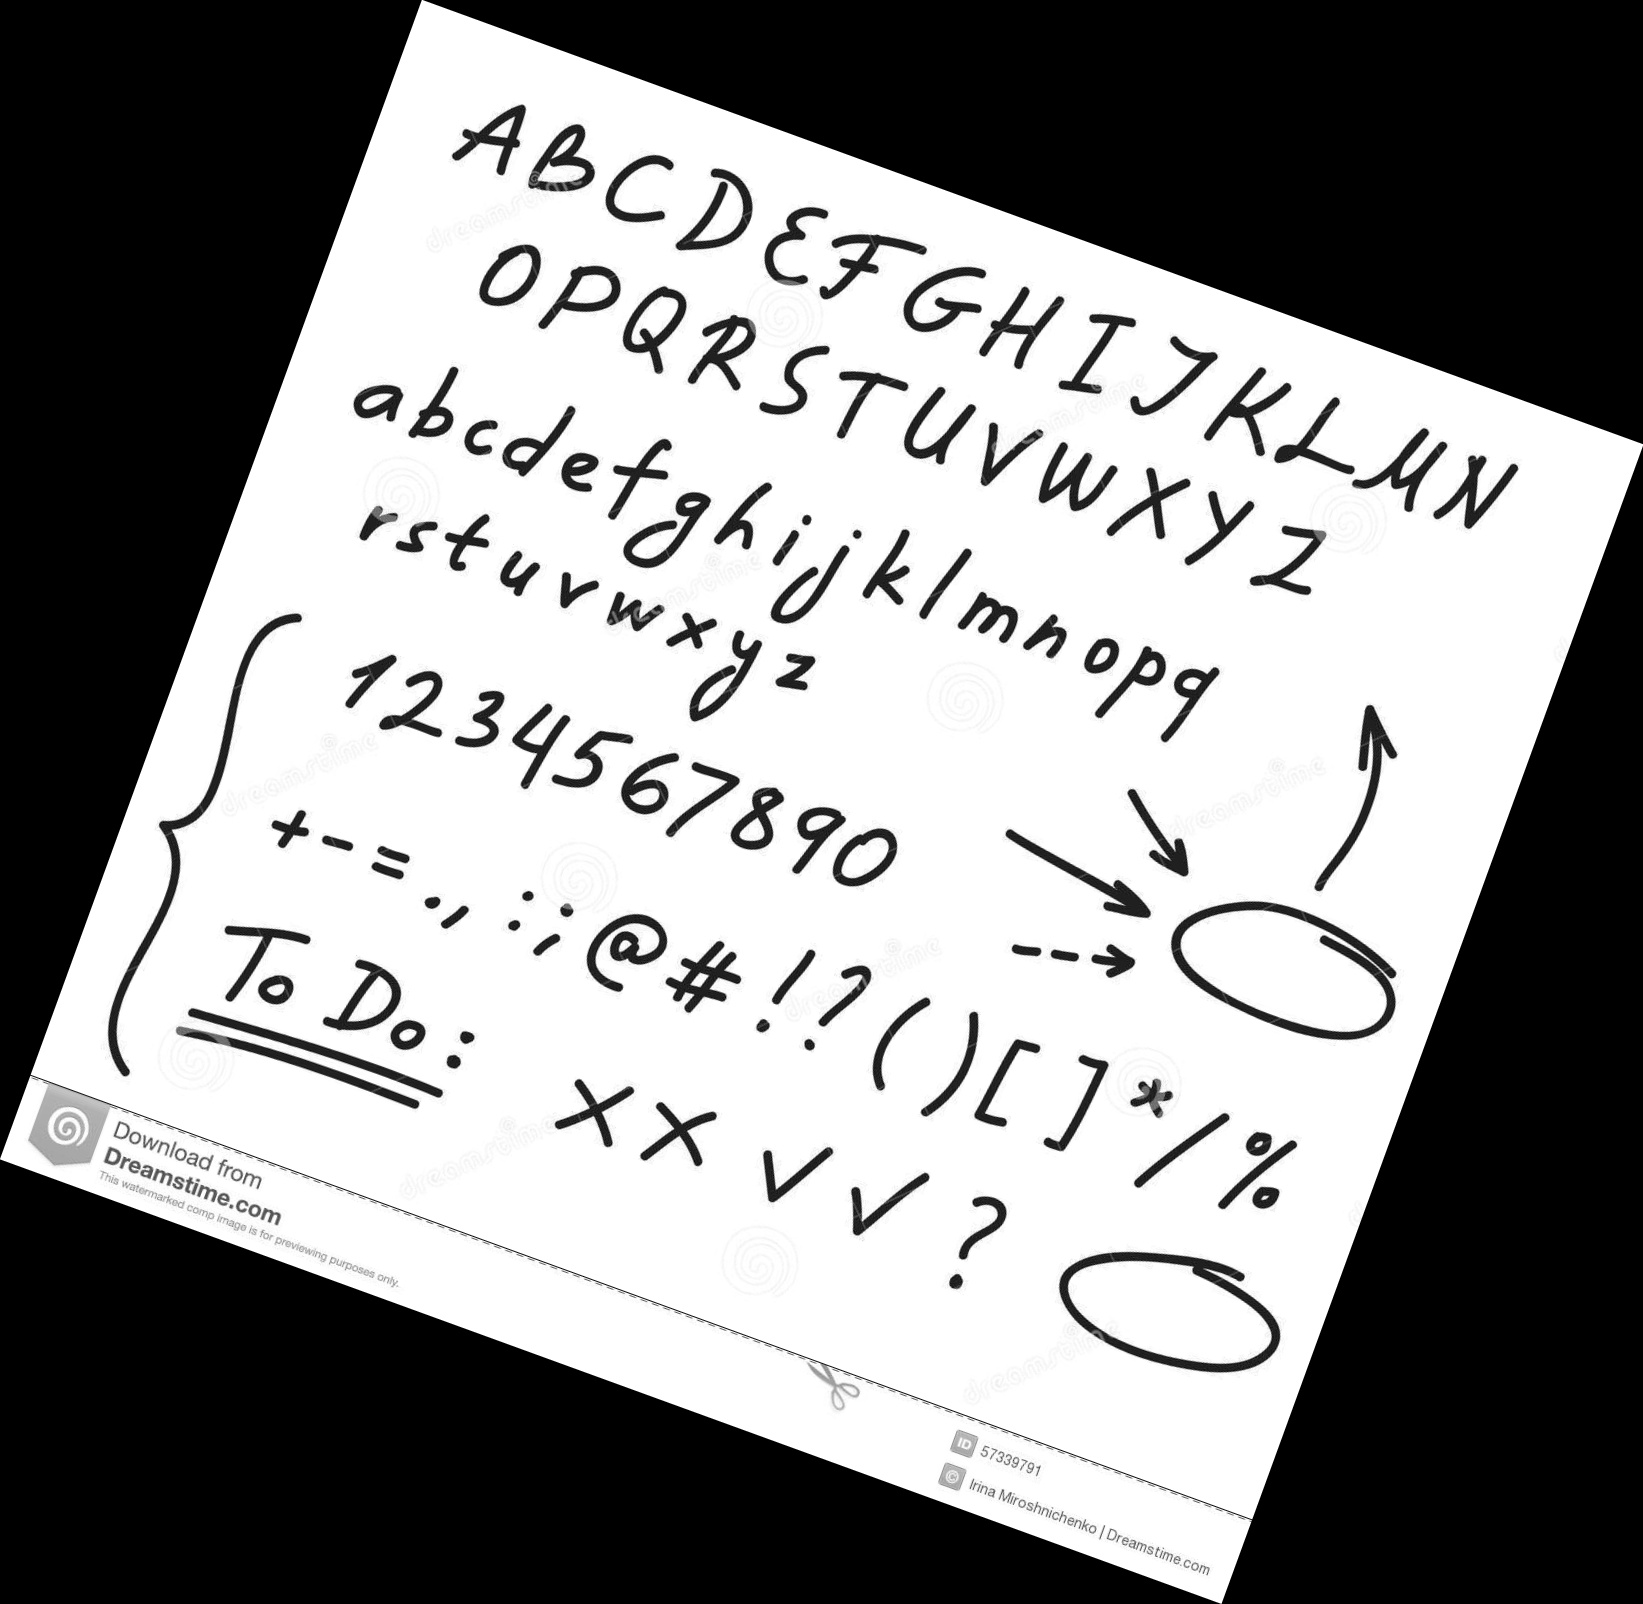arrow: (1345, 695, 1414, 839), (1048, 853, 1158, 928), (1042, 934, 1156, 990), (1117, 809, 1204, 881)
